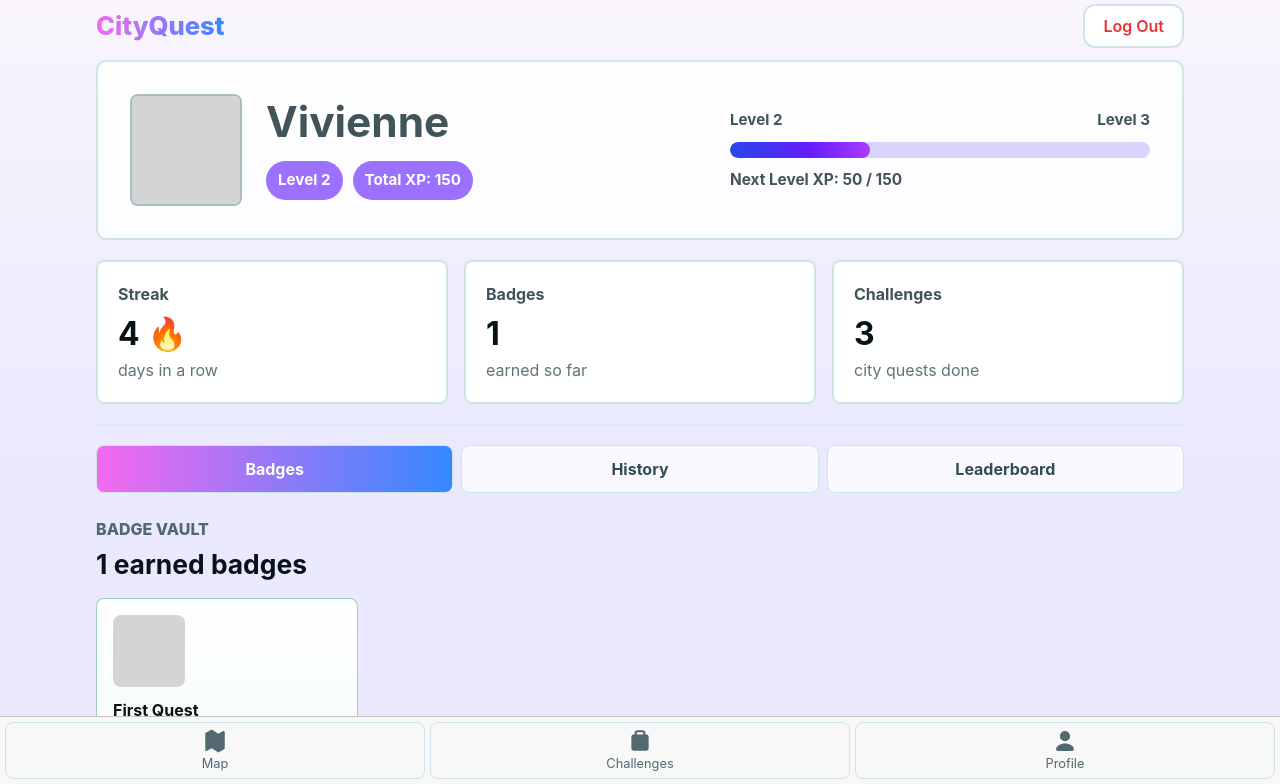
Test: ProfilePage › loads and renders leaderboard data when the leaderboard tab is selected
expect the heading "Vivienne" is shown: met, box [266, 100, 473, 145]
What coordinates should you click on to do the following:
click the tab "Leaderboard"
I would click on:
 (1005, 469)
Its box is [827, 445, 1184, 493].
(page scrolled)
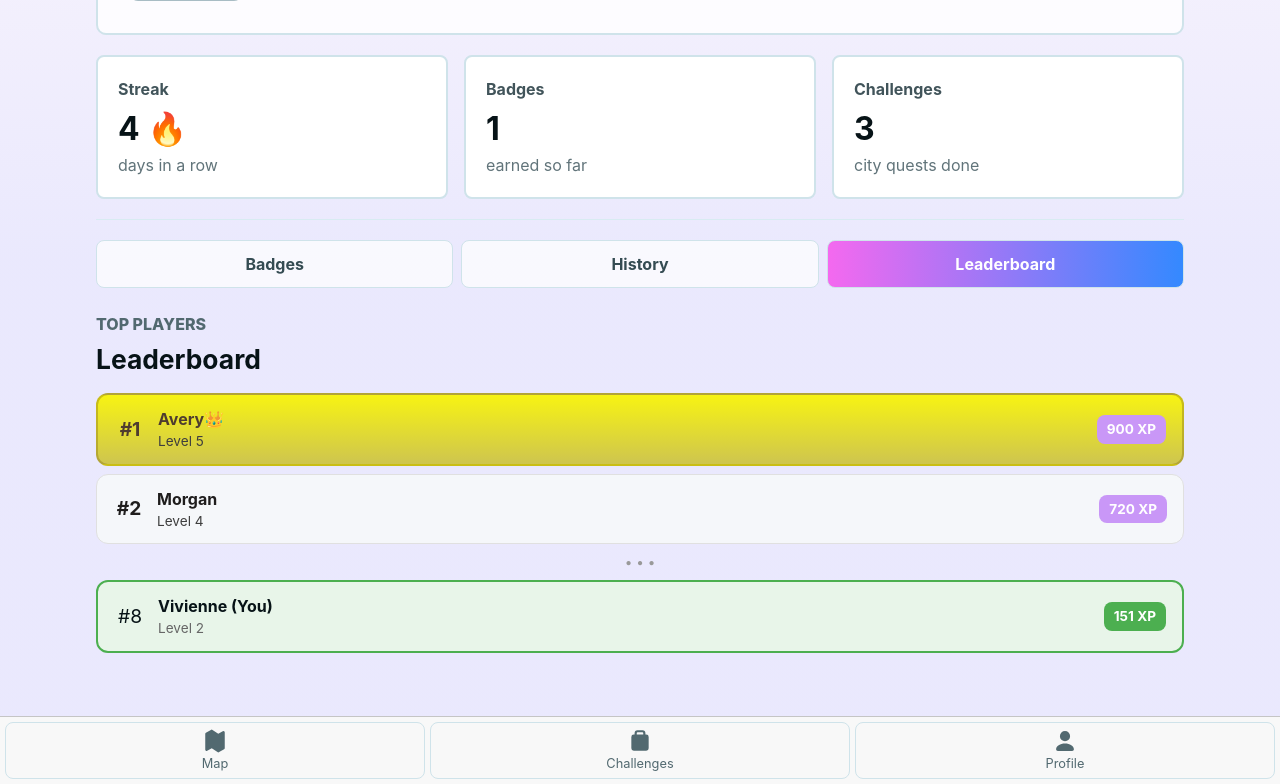
expect the heading "Leaderboard" is shown: met, box [96, 343, 261, 375]
expect the text "Avery👑" is shown: met, box [158, 409, 224, 429]
expect the text "Level 5" is shown: met, box [158, 433, 204, 449]
